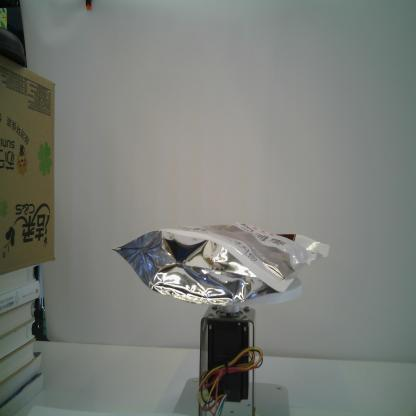Dried Food: (111, 222, 330, 306)
